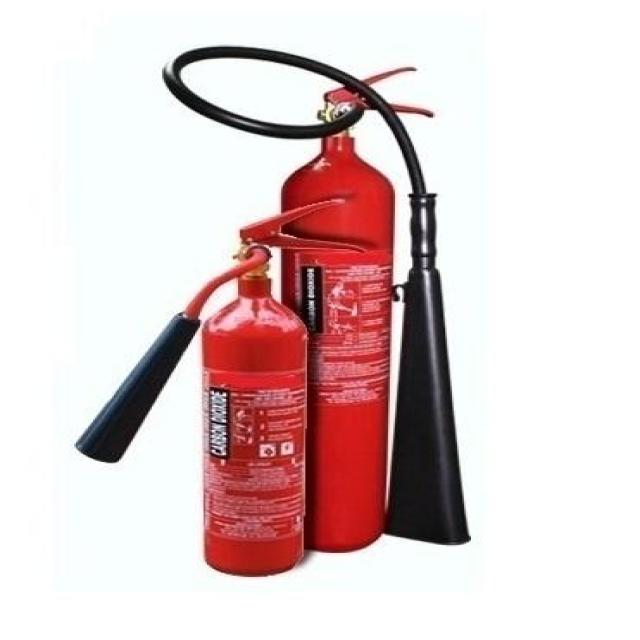fire_extinguisher: (152, 39, 478, 554), (65, 192, 366, 583)
